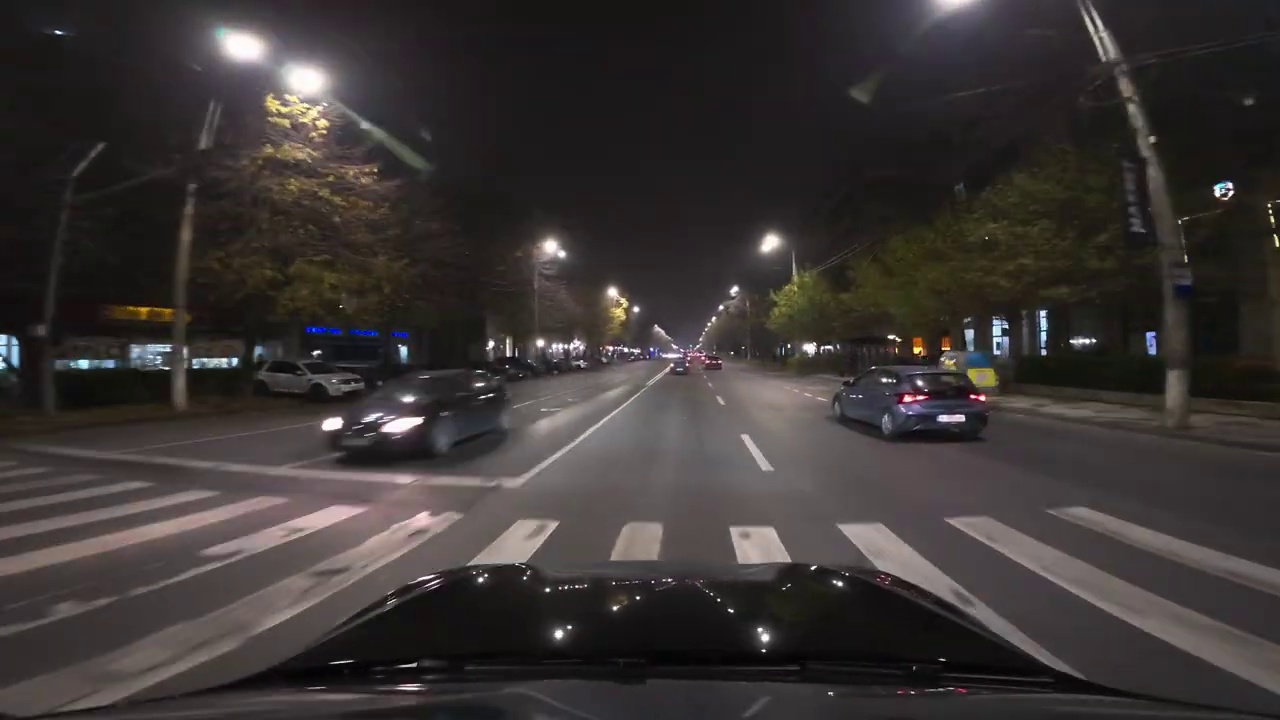acesa: (218, 30, 265, 62), (750, 228, 788, 262), (289, 67, 325, 94), (535, 236, 564, 262), (756, 230, 784, 256), (604, 284, 627, 315)
